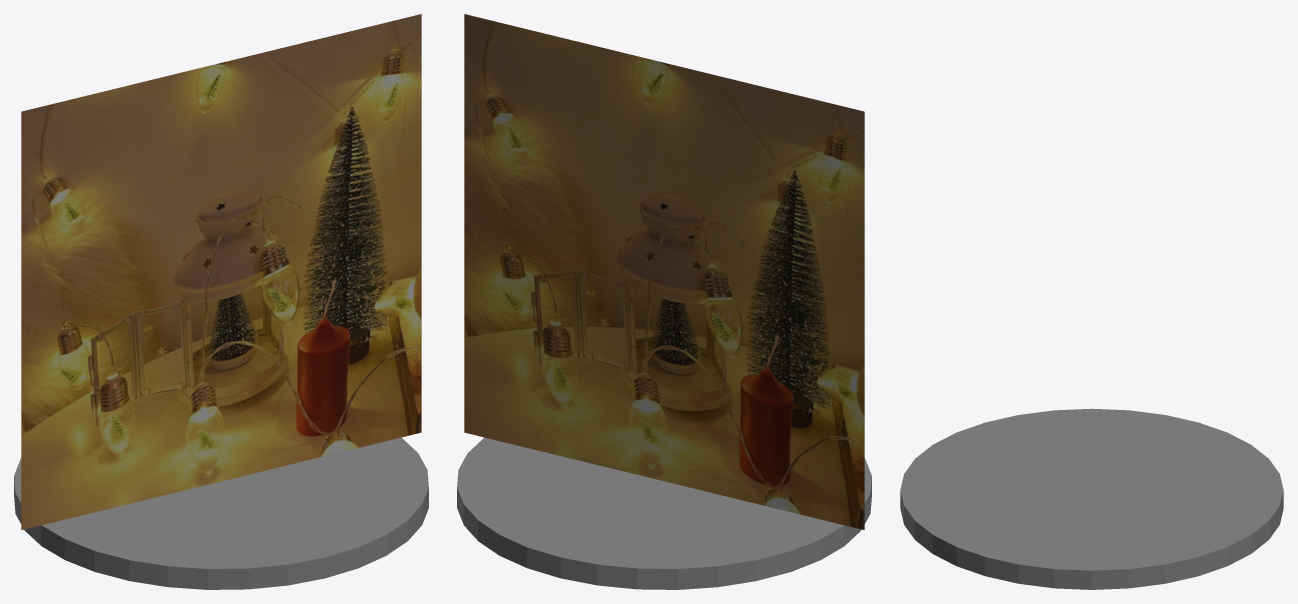
The model's file is B0FWQZHZTG.glb.
3 renders of one model, left to right at view 1: azimuth 30°, elevation 25°; view 2: azimuth 150°, elevation 25°; view 3: azimuth 270°, elevation 25°, orthographic. The views are drawn at different scales.
Parts seen in each view (by area): view 1: photo, base; view 2: photo, base; view 3: base.
Part boxes in pixels (x1=…): photo: x1=21, y1=14, x2=421, y2=529; base: x1=14, y1=437, x2=428, y2=589; photo: x1=464, y1=14, x2=864, y2=529; base: x1=457, y1=437, x2=871, y2=589; base: x1=900, y1=408, x2=1283, y2=589.
Size of the model in its own units: 0.4 by 0.42 by 0.36.
1 material, 1 textured.
